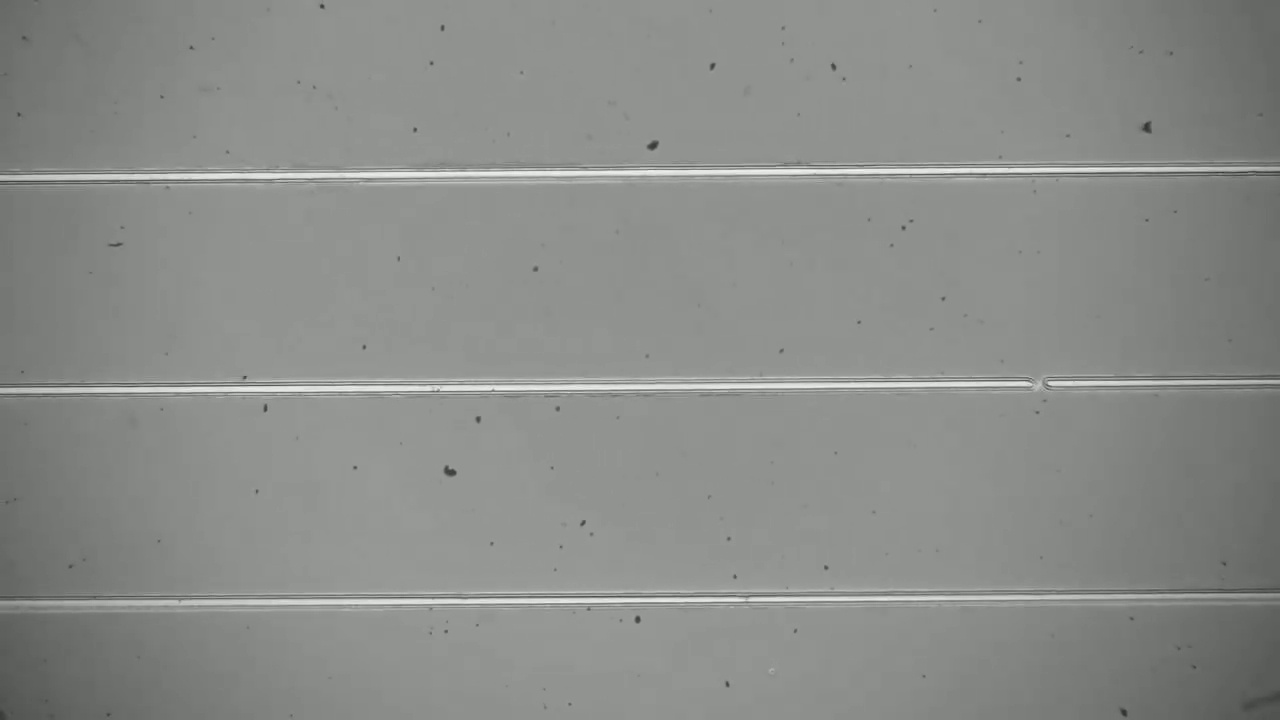open: (1008, 363, 1065, 404)
